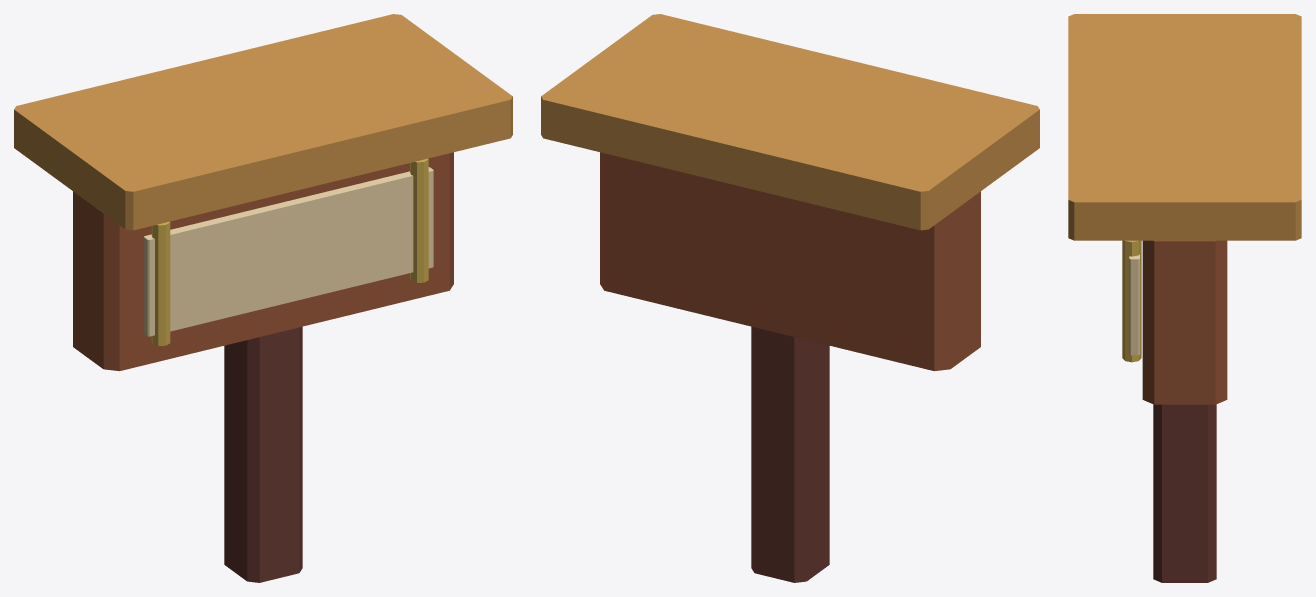
Rendered from PerchSign.fbx.
3 renders of one model, left to right at view 1: azimuth 30°, elevation 25°; view 2: azimuth 150°, elevation 25°; view 3: azimuth 270°, elevation 25°, orthographic.
Visible parts, largest first — view 1: PerchSign.004; view 2: PerchSign.004; view 3: PerchSign.004.
Part boxes in pixels (<box>): PerchSign.004: <box>14,14,512,582</box>; PerchSign.004: <box>541,14,1039,582</box>; PerchSign.004: <box>1068,14,1301,582</box>.
Size of the model in its own units: 84 by 96 by 44.
